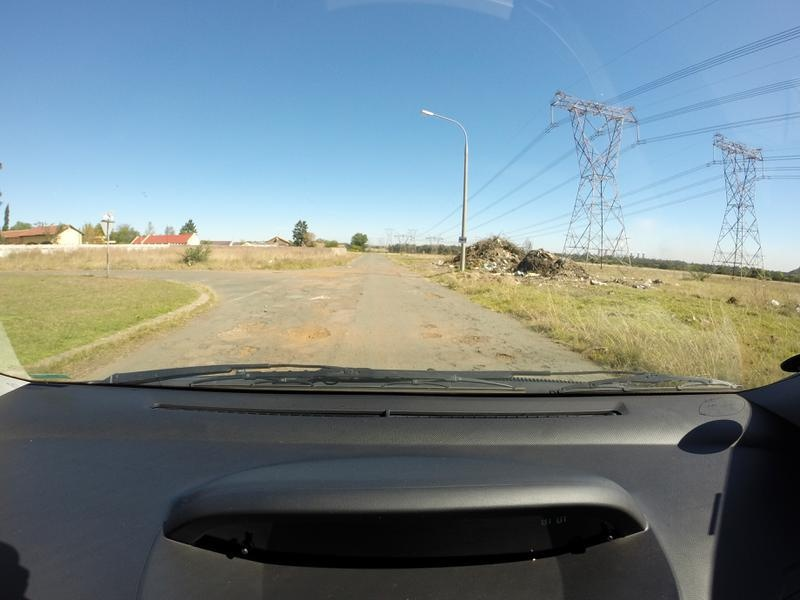pothole: (281, 315, 334, 346), (214, 310, 268, 339), (216, 340, 260, 363), (453, 326, 488, 349), (412, 328, 441, 348), (421, 285, 440, 307), (488, 350, 515, 364)
